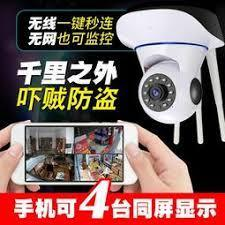maru: (137, 60, 202, 122)
